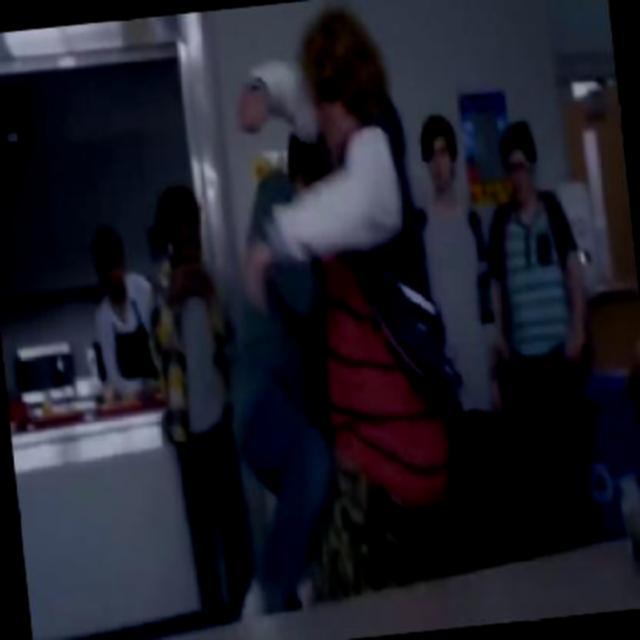fight: (194, 0, 468, 600)
non-fight: (127, 172, 264, 614), (474, 104, 608, 487)
